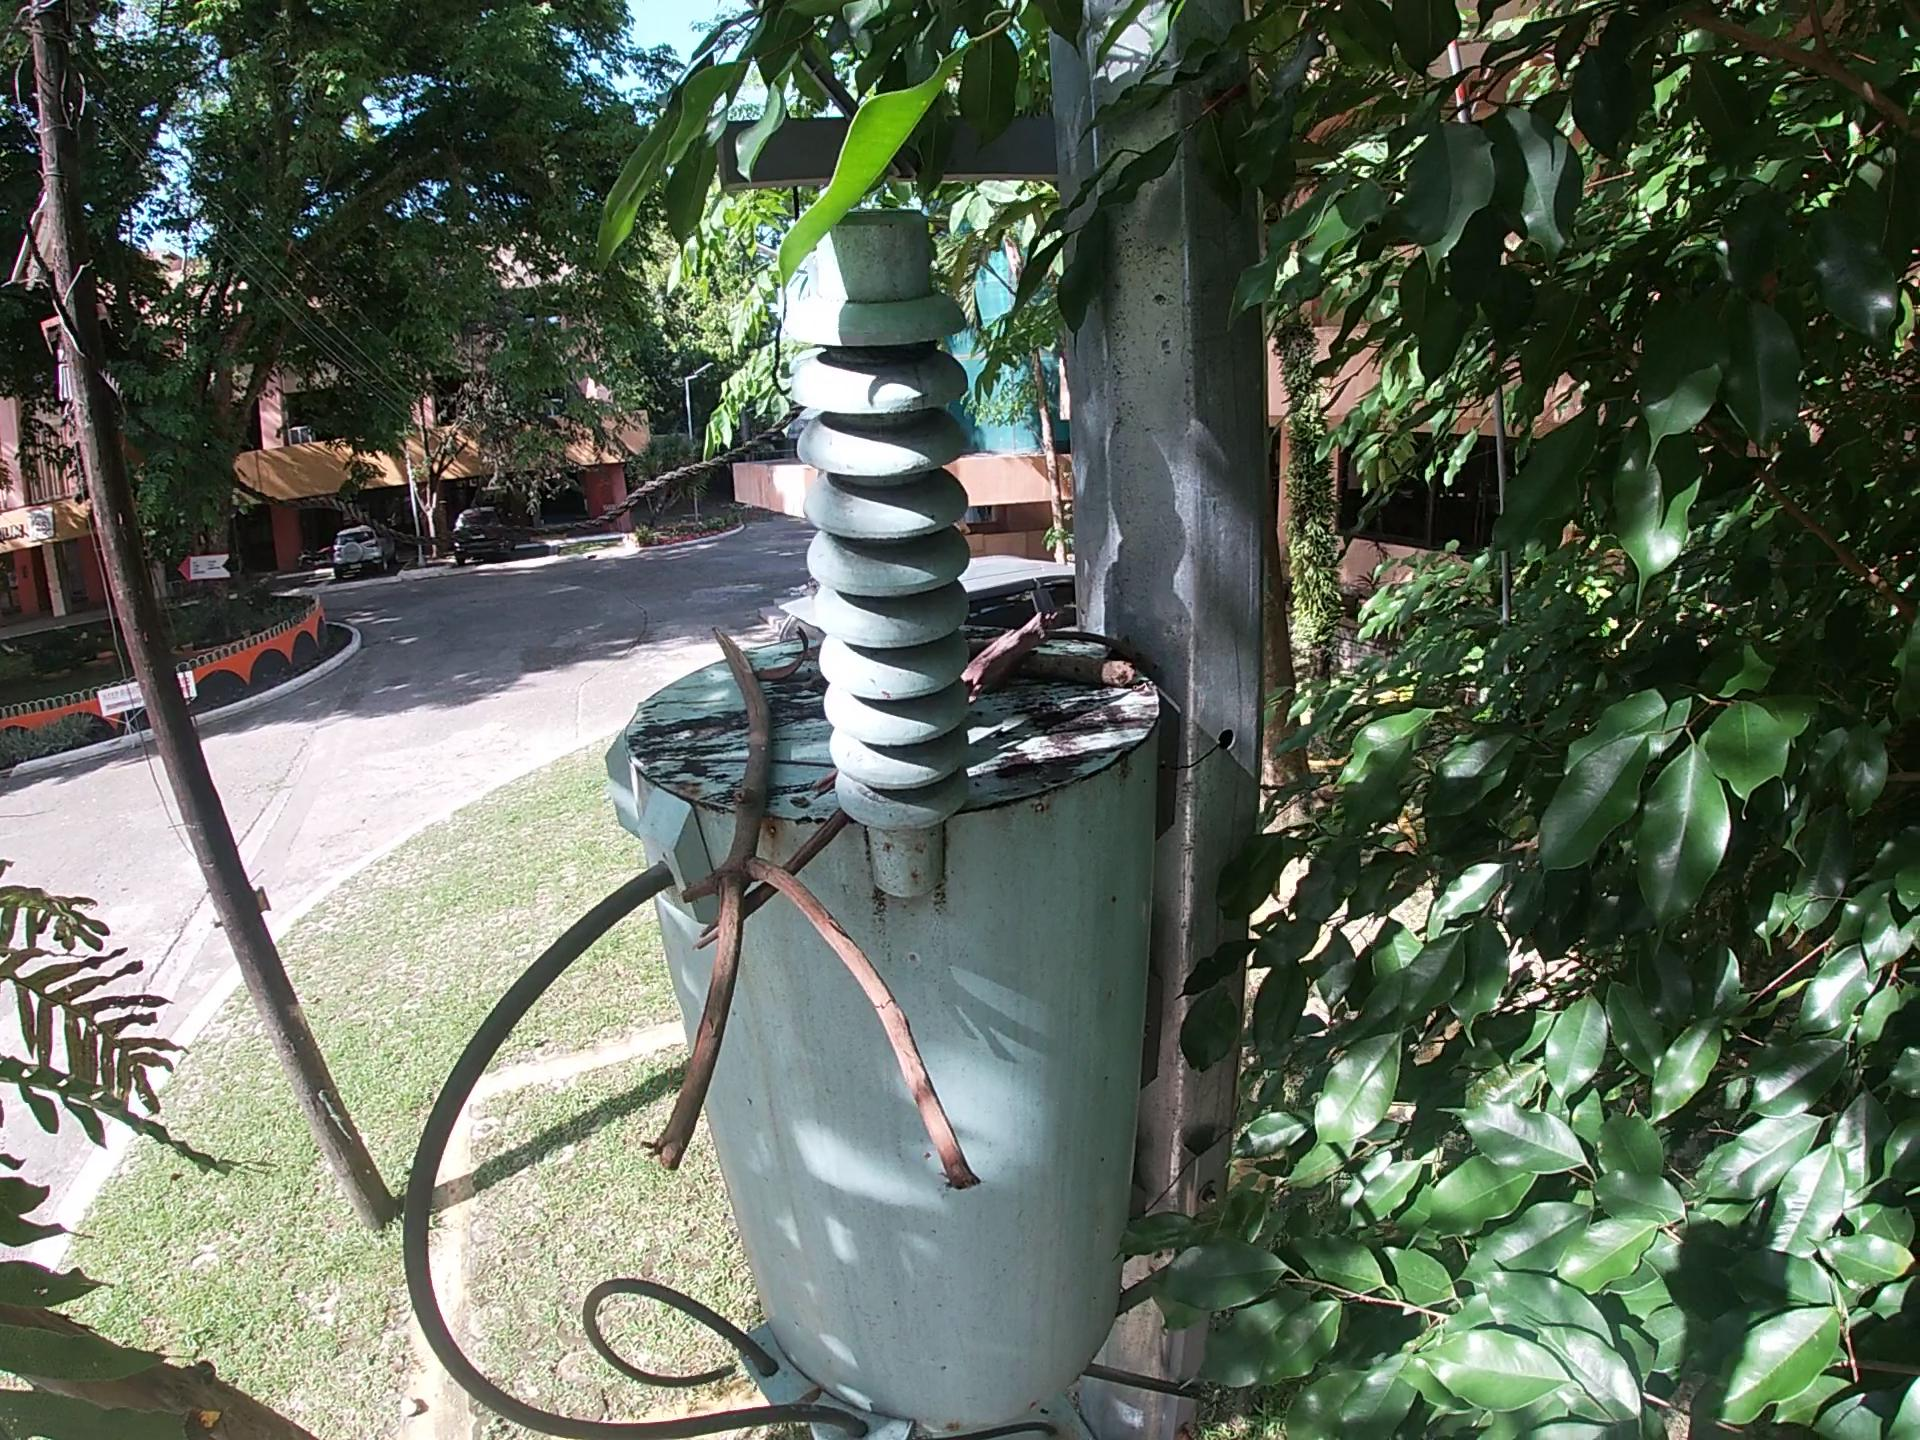mahogany fruit: (754, 628, 816, 681)
tree branch: (655, 608, 977, 1215), (958, 596, 1072, 696), (1008, 659, 1158, 688), (1040, 638, 1163, 658)
